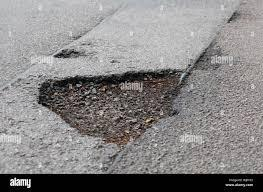pothole: (35, 64, 201, 162), (47, 43, 100, 63)
